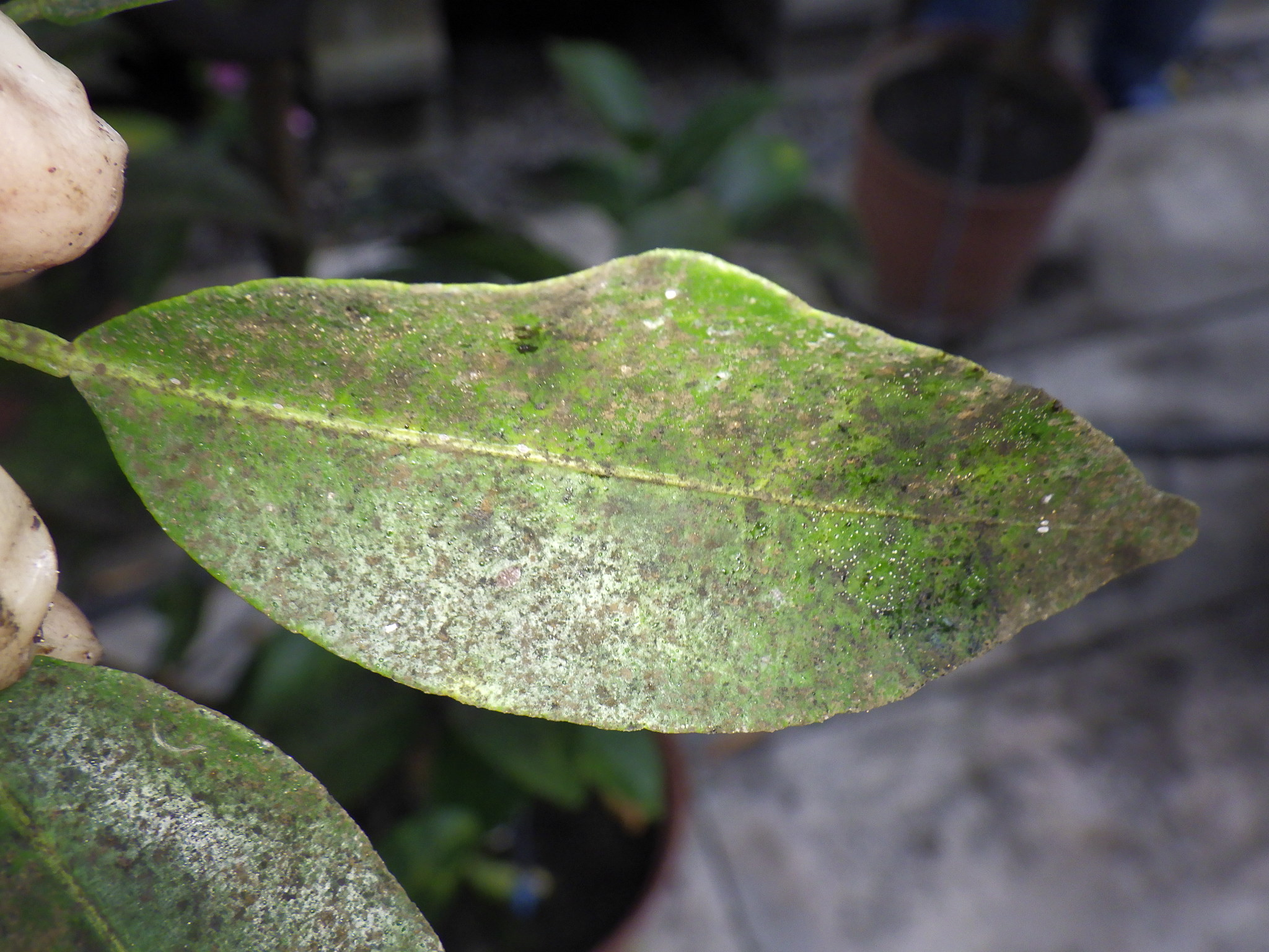Sooty_Mold: (0, 250, 1196, 731)
